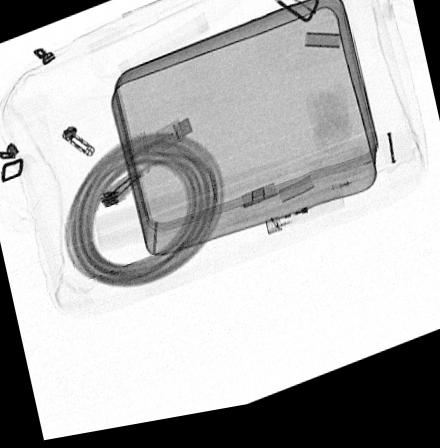Lighter: (262, 195, 344, 245)
